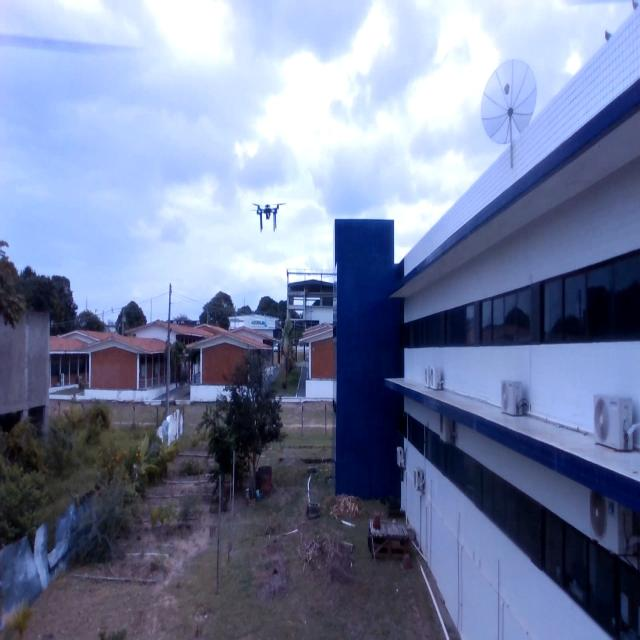-uav-: (250, 181, 288, 240)
